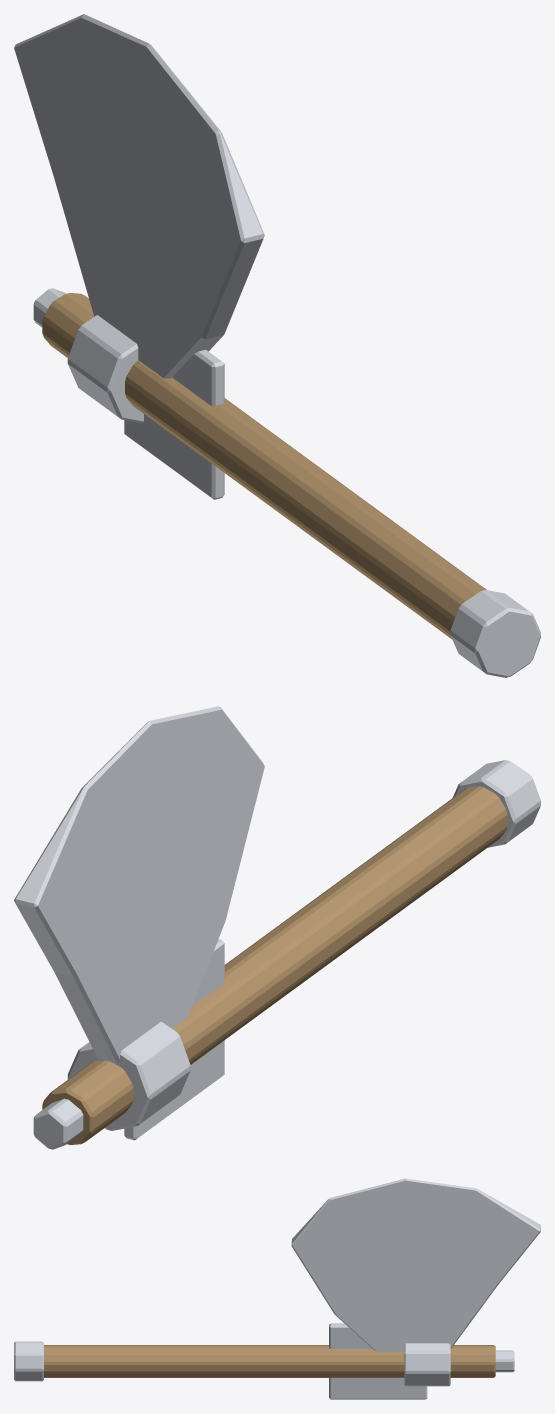
Rendered from greataxe.glb.
The picture shows the model from 3 angles, top to bottom: view 1: azimuth 30°, elevation 25°; view 2: azimuth 150°, elevation 25°; view 3: azimuth 270°, elevation 25°; orthographic projection. The views are drawn at different scales.
Visible parts, largest first — view 1: GreatAxe; view 2: GreatAxe; view 3: GreatAxe.
Boxes of the visible parts, x1,y1,x2,y2 form: GreatAxe: (14, 14, 540, 677); GreatAxe: (14, 706, 540, 1149); GreatAxe: (14, 1178, 540, 1399).
Bounding box in the file's own units: 0.1914 × 0.89 × 1.93.
